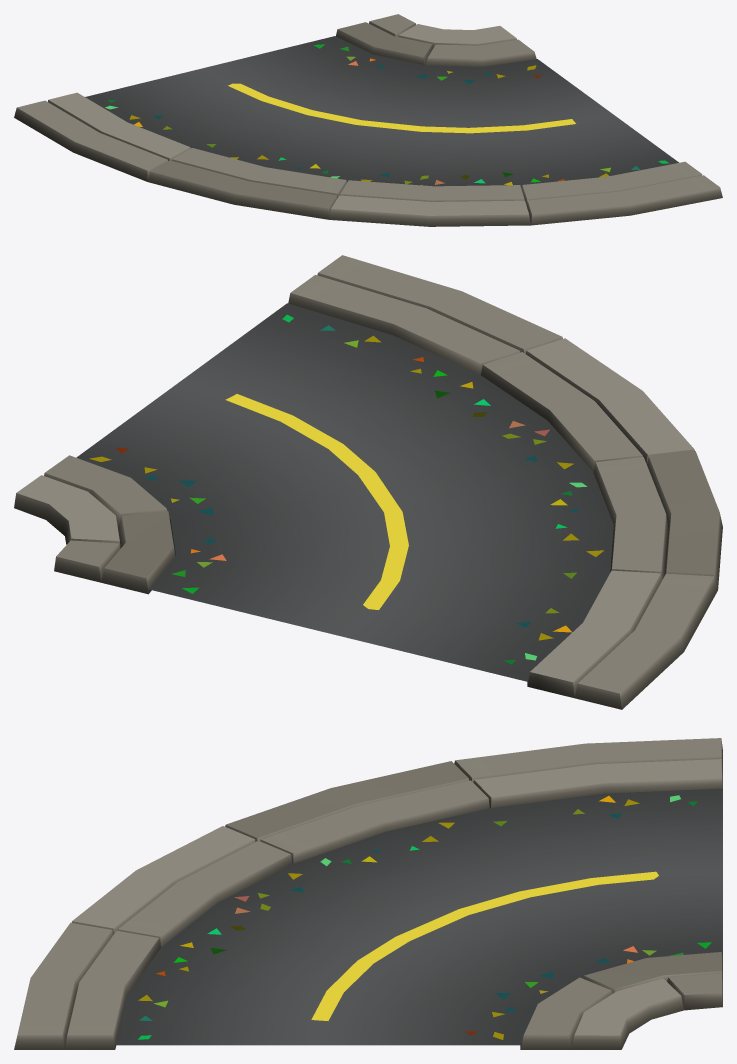
The model's file is Country_Road_1C.fbx.
The picture shows the model from 3 angles, top to bottom: view 1: azimuth 30°, elevation 25°; view 2: azimuth 150°, elevation 25°; view 3: azimuth 270°, elevation 25°; orthographic projection. The views are drawn at different scales.
Parts seen in each view (by area): view 1: Country_Road_1C, Country_Road_1C_Leaves; view 2: Country_Road_1C, Country_Road_1C_Leaves; view 3: Country_Road_1C, Country_Road_1C_Leaves.
Part boxes in pixels (<box>): Country_Road_1C: <box>14,14,722,226</box>; Country_Road_1C_Leaves: <box>105,44,669,185</box>; Country_Road_1C: <box>14,255,722,709</box>; Country_Road_1C_Leaves: <box>89,314,603,664</box>; Country_Road_1C: <box>14,738,722,1049</box>; Country_Road_1C_Leaves: <box>138,795,711,1039</box>.
Size of the model in its own units: 1400 by 30 by 1400.
